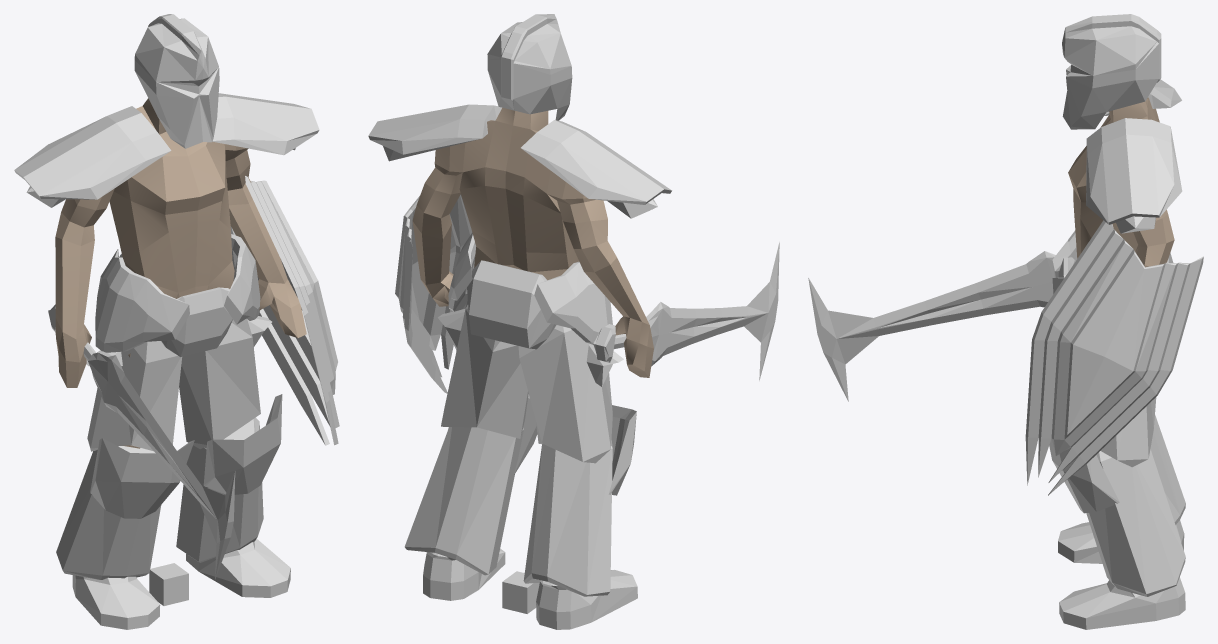
Rendered from Player_Model_ShortSword.fbx.
3 renders of one model, left to right at view 1: azimuth 30°, elevation 25°; view 2: azimuth 150°, elevation 25°; view 3: azimuth 270°, elevation 25°, orthographic.
Visible parts, largest first — view 1: Body, CalfCover.R, Shield, Pauldron.R, CalfCover.L, Helmet, ThighCover.L, ShortSword, HipCover.R, ThighCover.R, Pauldron.L, Shoe.R (+4 smaller); view 2: Body, CalfCover.R, CalfCover.L, ThighCover.R, ThighCover.L, Helmet, Pauldron.R, ShortSword, Shield, HipCover.B, Pauldron.L, HipCover.R (+5 smaller); view 3: Shield, CalfCover.L, ShortSword, Helmet, Pauldron.L, Shoe.L, Body, ThighCover.L, CalfCover.R, Shoe.R, Pauldron.R.
Part boxes in pixels (bbox=[...]): Body: bbox=[55, 98, 306, 448]; CalfCover.R: bbox=[56, 438, 194, 579]; Shield: bbox=[230, 176, 339, 445]; Pauldron.R: bbox=[14, 106, 171, 207]; CalfCover.L: bbox=[176, 394, 282, 562]; Helmet: bbox=[134, 14, 219, 148]; ThighCover.L: bbox=[179, 316, 271, 449]; ShortSword: bbox=[48, 304, 235, 579]; HipCover.R: bbox=[95, 249, 189, 352]; ThighCover.R: bbox=[86, 341, 182, 451]; Pauldron.L: bbox=[212, 93, 319, 155]; Shoe.R: bbox=[72, 575, 160, 629]; Body: bbox=[412, 107, 653, 377]; CalfCover.R: bbox=[523, 405, 636, 596]; CalfCover.L: bbox=[404, 394, 537, 575]; ThighCover.R: bbox=[518, 325, 623, 463]; ThighCover.L: bbox=[438, 300, 528, 438]; Helmet: bbox=[487, 14, 572, 120]; Pauldron.R: bbox=[521, 120, 671, 218]; ShortSword: bbox=[593, 242, 779, 380]; Shield: bbox=[395, 194, 472, 393]; HipCover.B: bbox=[467, 260, 556, 349]; Pauldron.L: bbox=[368, 104, 501, 161]; HipCover.R: bbox=[534, 261, 612, 344]; Shield: bbox=[1025, 220, 1203, 495]; CalfCover.L: bbox=[1049, 438, 1185, 596]; ShortSword: bbox=[808, 251, 1055, 401]; Helmet: bbox=[1062, 14, 1161, 129]; Pauldron.L: bbox=[1086, 118, 1182, 233]; Shoe.L: bbox=[1059, 577, 1185, 629]; Body: bbox=[1068, 97, 1174, 267]; ThighCover.L: bbox=[1100, 397, 1156, 467]; CalfCover.R: bbox=[1150, 415, 1185, 524]; Shoe.R: bbox=[1058, 520, 1184, 563]; Pauldron.R: bbox=[1104, 79, 1181, 115].
Bounding box in the file's own units: 114 × 220 × 137.
